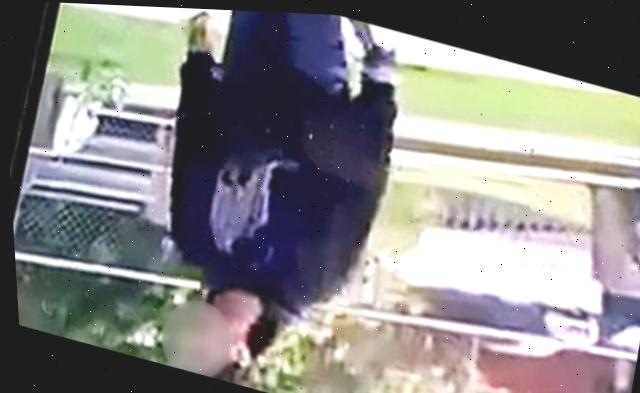long knife: (323, 11, 418, 77)
